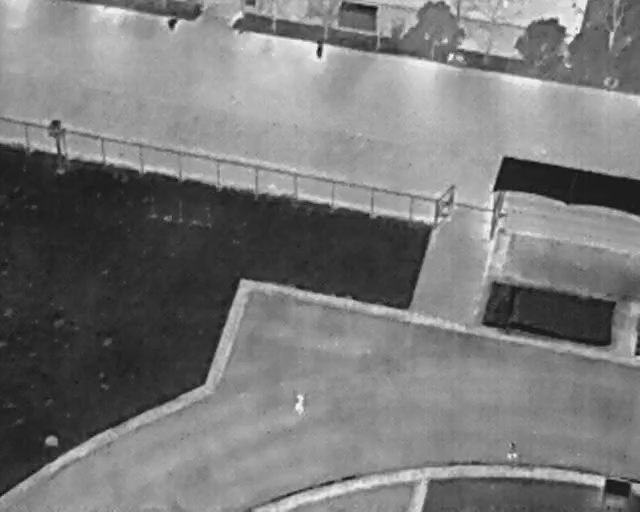Bicycle: (314, 37, 326, 60), (166, 16, 178, 32)
Person: (292, 394, 307, 415), (505, 440, 519, 460)
